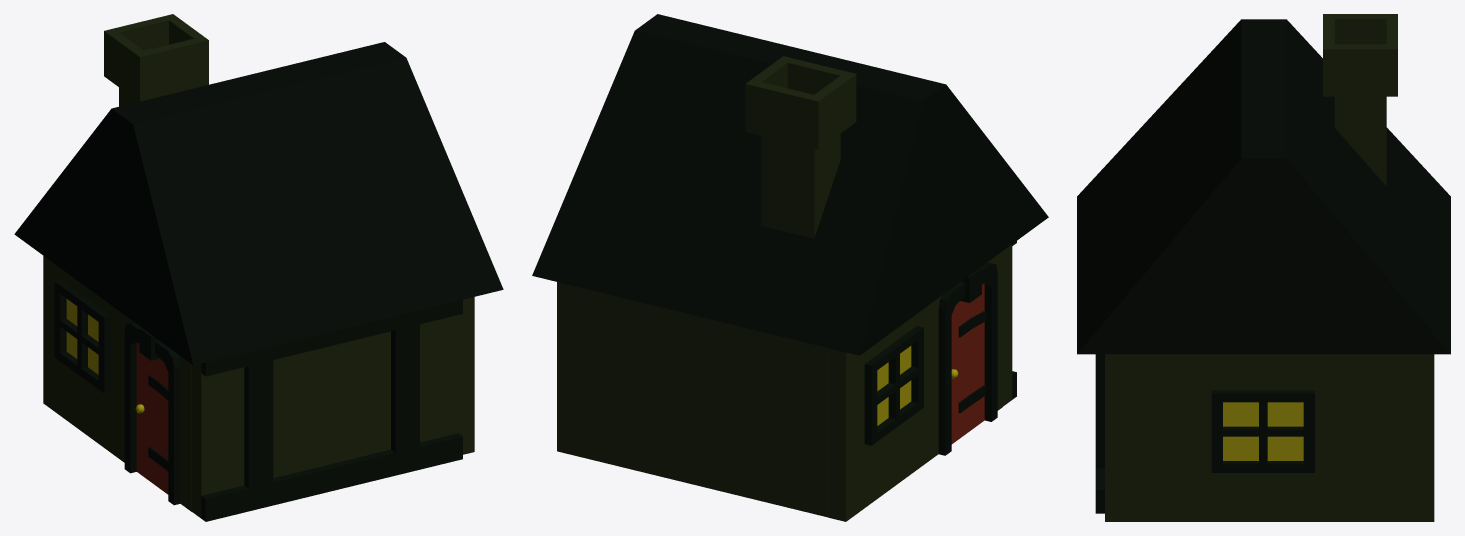
Rendered from Maison_test.FBX.
The picture shows the model from 3 angles, left to right: view 1: azimuth 30°, elevation 25°; view 2: azimuth 150°, elevation 25°; view 3: azimuth 270°, elevation 25°; orthographic projection. The views are drawn at different scales.
Visible parts, largest first — view 1: mur_133; view 2: mur_133; view 3: mur_133.
Part boxes in pixels (box(x1,y1,x2,y2)): mur_133: box(14, 14, 503, 521); mur_133: box(532, 14, 1048, 521); mur_133: box(1077, 14, 1450, 521).
Bounding box in the file's own units: 483 × 557 × 483.
